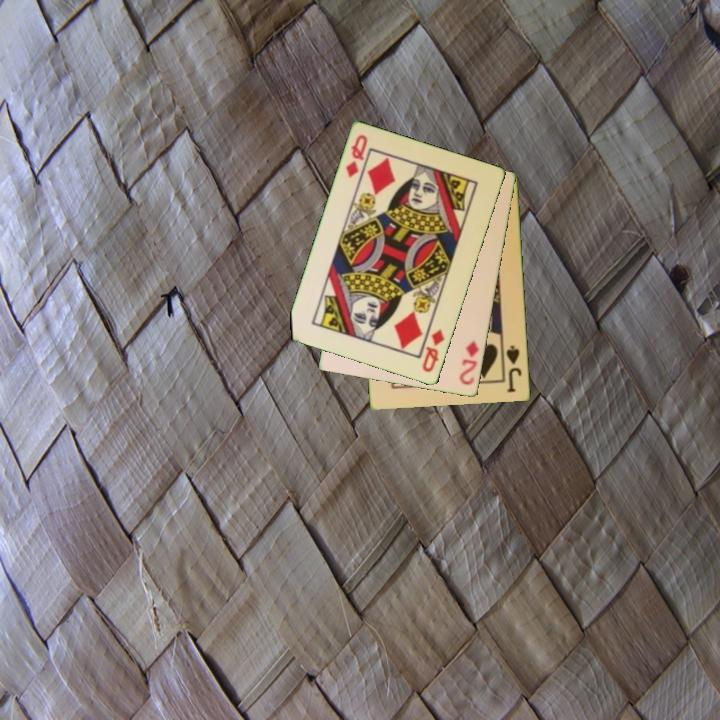2d: (456, 337, 482, 388)
Js: (503, 342, 525, 395)
Qd: (419, 325, 448, 376), (342, 131, 371, 181)
